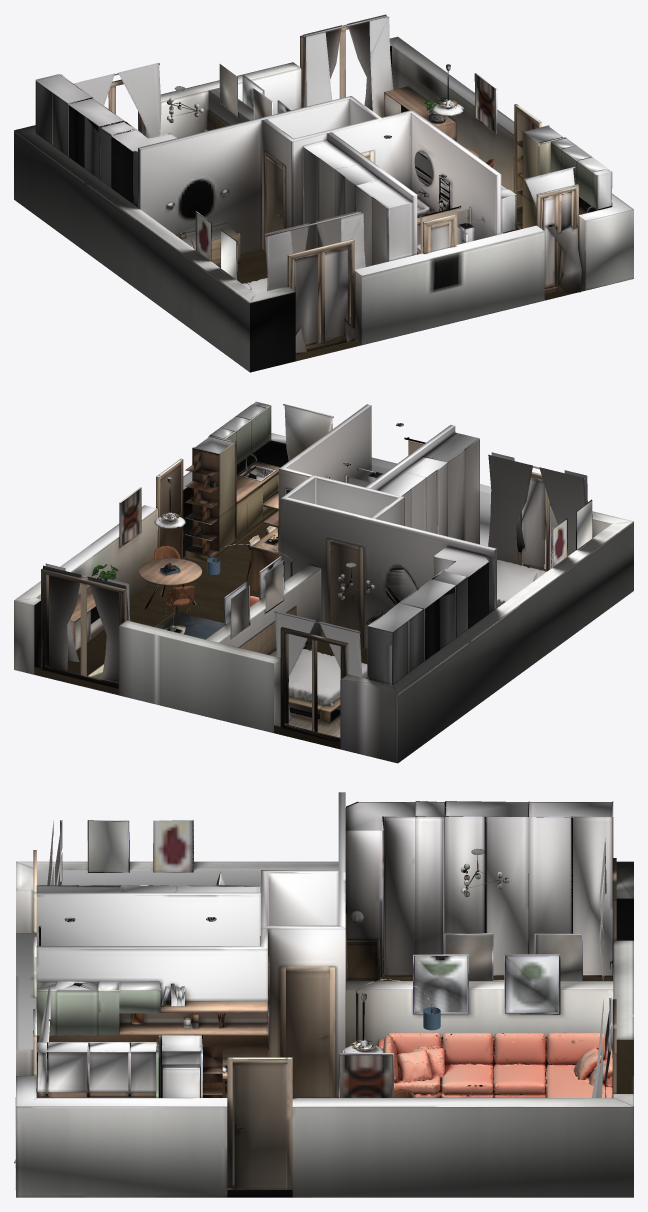
The model's file is appartment_final-v1.glb.
3 renders of one model, top to bottom at view 1: azimuth 30°, elevation 25°; view 2: azimuth 150°, elevation 25°; view 3: azimuth 270°, elevation 25°, orthographic. The views are drawn at different scales.
Visible parts, largest first — view 1: Mesh41_Pelle_03__imbottitura_0.001; view 2: Mesh41_Pelle_03__imbottitura_0.001, Mesh41_Pelle_03__imbottitura_0.003; view 3: Mesh41_Pelle_03__imbottitura_0.001, Mesh41_Pelle_03__imbottitura_0.002.
Boxes of the visible parts, bbox=[...] form: Mesh41_Pelle_03__imbottitura_0.001: bbox=[14, 14, 633, 372]; Mesh41_Pelle_03__imbottitura_0.001: bbox=[14, 401, 633, 763]; Mesh41_Pelle_03__imbottitura_0.003: bbox=[153, 545, 194, 624]; Mesh41_Pelle_03__imbottitura_0.001: bbox=[14, 792, 633, 1197]; Mesh41_Pelle_03__imbottitura_0.002: bbox=[378, 1032, 612, 1097].
Bounding box in the file's own units: 0.2978 × 0.0957 × 0.3182.
6 materials, 2 textured.
